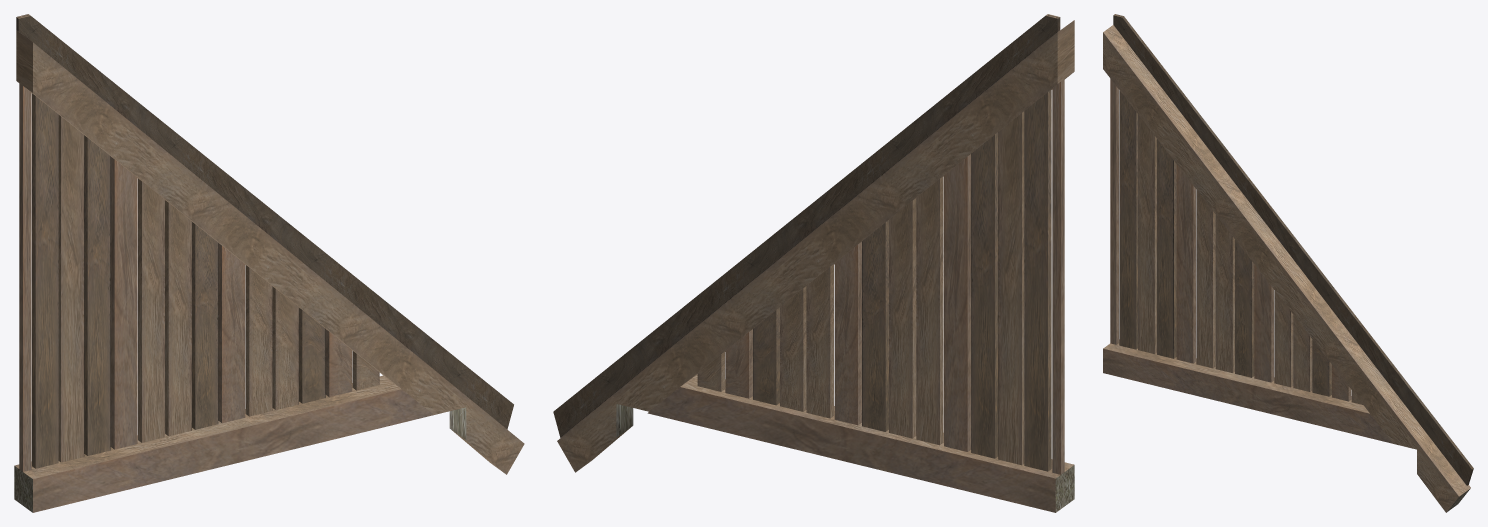
Rendered from RoofWallB.fbx.
3 renders of one model, left to right at view 1: azimuth 30°, elevation 25°; view 2: azimuth 150°, elevation 25°; view 3: azimuth 330°, elevation 25°, orthographic. The views are drawn at different scales.
Visible parts, largest first — view 1: RoofWallB; view 2: RoofWallB; view 3: RoofWallB.
Boxes of the visible parts, x1,y1,x2,y2 form: RoofWallB: [14, 14, 524, 512]; RoofWallB: [553, 14, 1074, 512]; RoofWallB: [1103, 14, 1473, 512].
Bounding box in the file's own units: 462 × 500 × 30.09.
